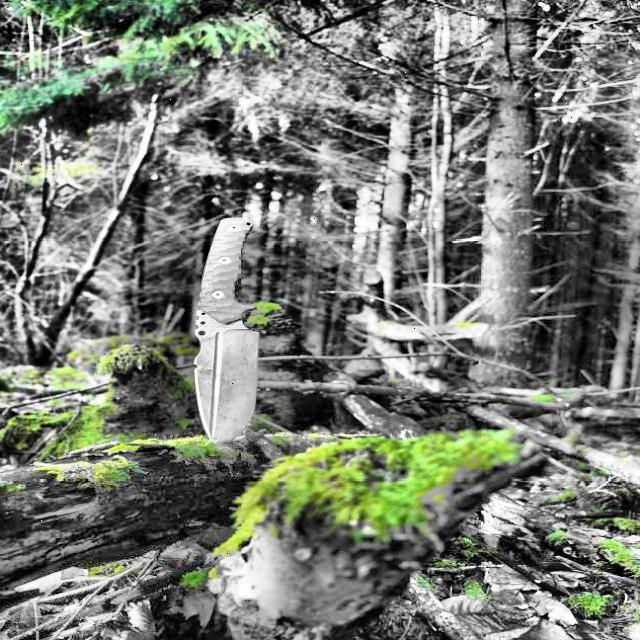knife: (186, 206, 284, 449)
